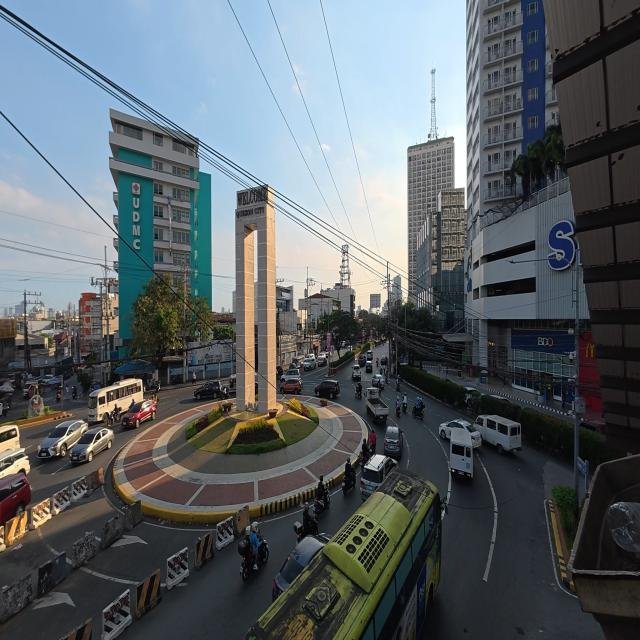bus: (246, 469, 445, 639), (88, 379, 143, 422)
car: (273, 534, 329, 601), (38, 420, 88, 459), (0, 473, 31, 525), (361, 455, 396, 501), (70, 427, 114, 463), (439, 420, 481, 448), (121, 400, 157, 428), (0, 448, 30, 478), (384, 426, 403, 459), (194, 381, 221, 400), (315, 380, 339, 399), (280, 378, 302, 394), (580, 420, 605, 434), (465, 387, 482, 404), (281, 369, 300, 382), (23, 383, 39, 397), (47, 376, 62, 389), (490, 394, 511, 403), (372, 374, 384, 389), (304, 358, 316, 370), (42, 375, 54, 384), (318, 355, 327, 366), (359, 353, 366, 367), (230, 374, 236, 388), (276, 366, 282, 379), (366, 361, 373, 372), (289, 362, 299, 369), (380, 356, 387, 366), (367, 350, 373, 361), (307, 353, 316, 360), (345, 345, 352, 352), (341, 341, 345, 348)
motorcycle: (238, 539, 269, 581), (294, 519, 318, 543), (314, 491, 330, 519), (343, 467, 356, 495), (108, 407, 121, 426), (144, 380, 161, 392), (412, 406, 424, 419), (359, 453, 368, 470), (171, 374, 183, 384), (221, 387, 230, 399), (0, 403, 8, 416), (370, 443, 376, 457), (355, 389, 362, 399), (72, 388, 77, 399), (396, 405, 400, 417), (403, 402, 407, 413), (396, 381, 400, 391), (56, 391, 60, 401), (385, 372, 388, 383), (376, 359, 379, 367)
trucks: (366, 388, 389, 421)
vans: (475, 415, 521, 453), (450, 428, 472, 477), (0, 425, 19, 452), (352, 365, 361, 380)
